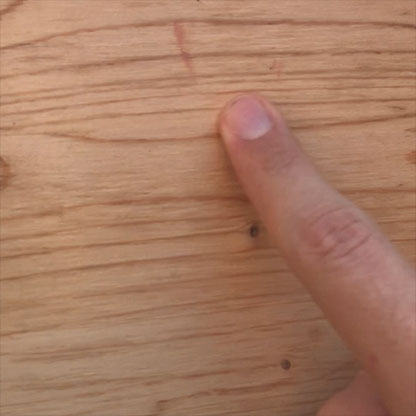fingertip: (216, 77, 301, 156)
